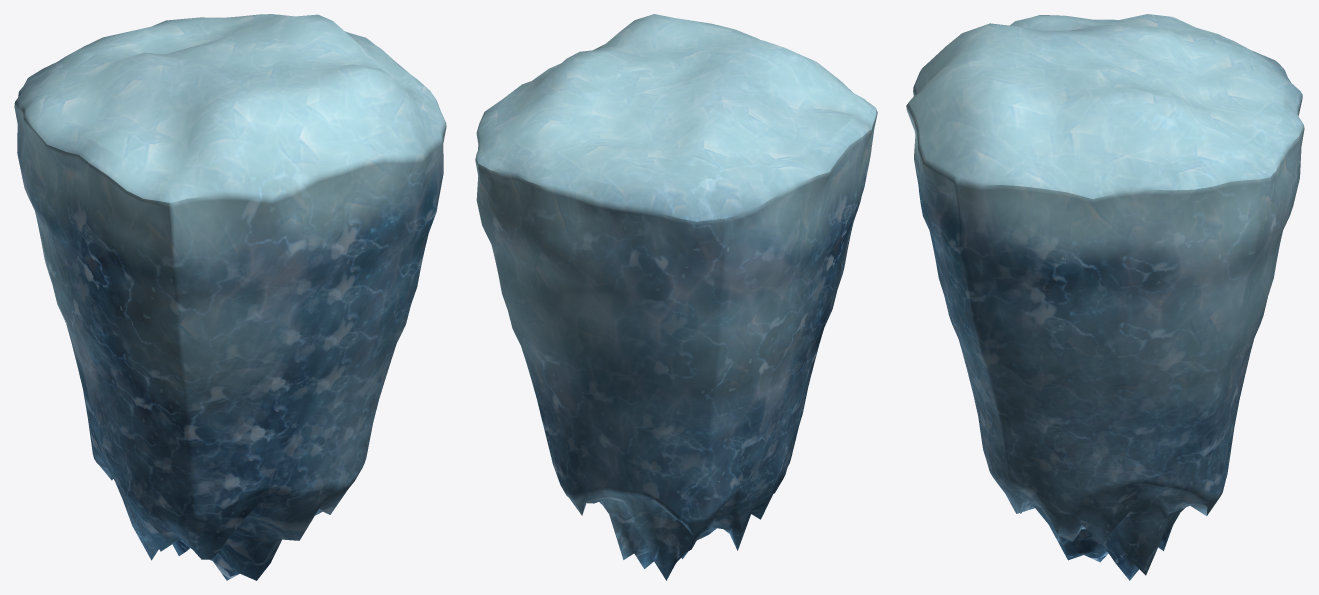
Rendered from Iceberg P1.fbx.
The picture shows the model from 3 angles, left to right: view 1: azimuth 30°, elevation 25°; view 2: azimuth 150°, elevation 25°; view 3: azimuth 270°, elevation 25°; orthographic projection. The views are drawn at different scales.
Parts seen in each view (by area): view 1: Iceberg_P1; view 2: Iceberg_P1; view 3: Iceberg_P1.
Boxes of the visible parts, left/top/right/bottom form: Iceberg_P1: left=14, top=14, right=446, bottom=580; Iceberg_P1: left=475, top=14, right=877, bottom=580; Iceberg_P1: left=906, top=14, right=1304, bottom=580.
Bounding box in the file's own units: 25.48 × 37.17 × 25.71.
